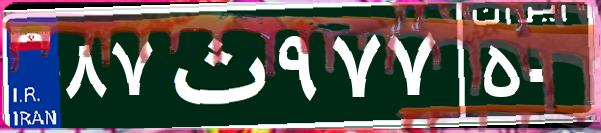0: (525, 38, 570, 115)
5: (475, 38, 525, 113)
7: (385, 28, 445, 110), (330, 28, 385, 110), (110, 28, 158, 105)
8: (57, 26, 110, 107)
9: (273, 28, 330, 110)
ث: (158, 15, 273, 115)
